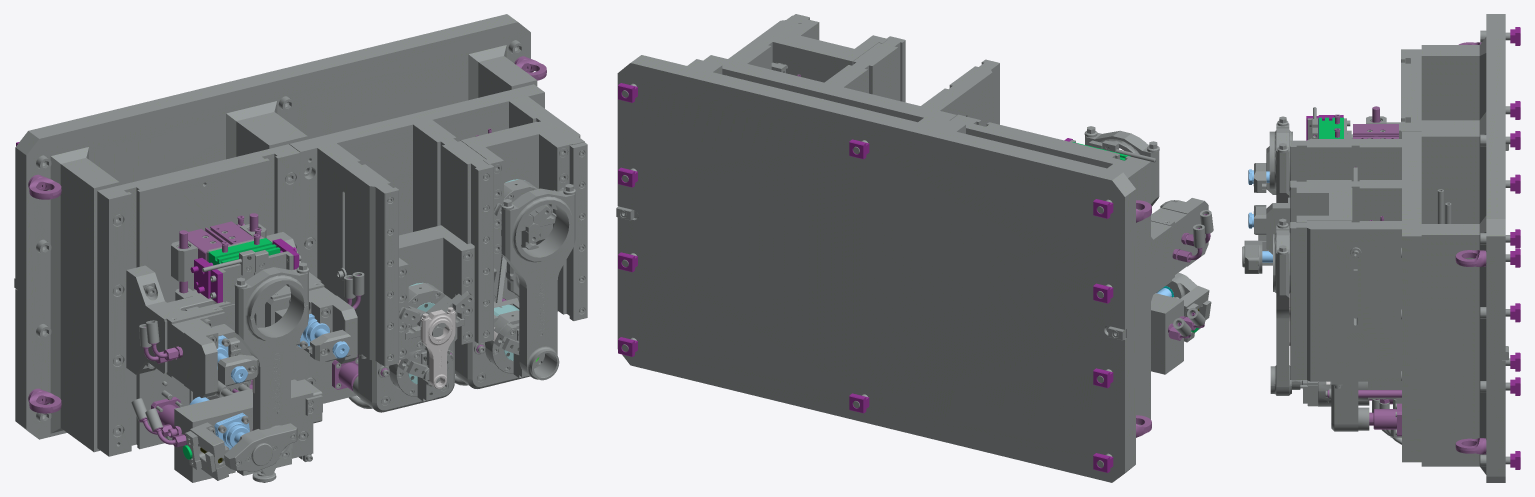
Rendered from hero.glb.
The picture shows the model from 3 angles, left to right: view 1: azimuth 30°, elevation 25°; view 2: azimuth 150°, elevation 25°; view 3: azimuth 270°, elevation 25°; orthographic projection. The views are drawn at different scales.
Parts seen in each view (by area): view 1: empty_2; view 2: empty_2; view 3: empty_2.
Boxes of the visible parts, bbox=[...] form: empty_2: bbox=[14, 14, 587, 482]; empty_2: bbox=[616, 14, 1213, 482]; empty_2: bbox=[1242, 14, 1520, 482].
Bounding box in the file's own units: 804 × 454 × 430.
Materials: 1 (1 with a texture image).
